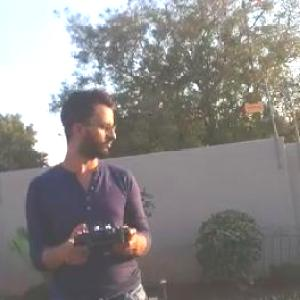follow: (23, 78, 159, 299)
